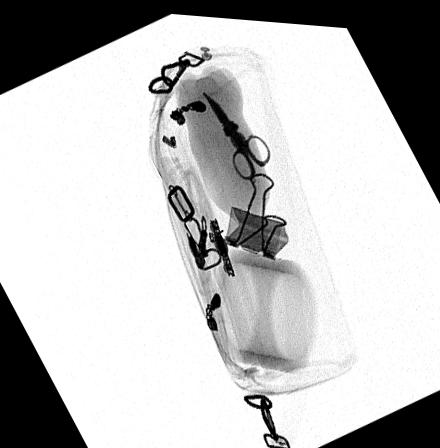Scissors: (201, 88, 271, 178)
